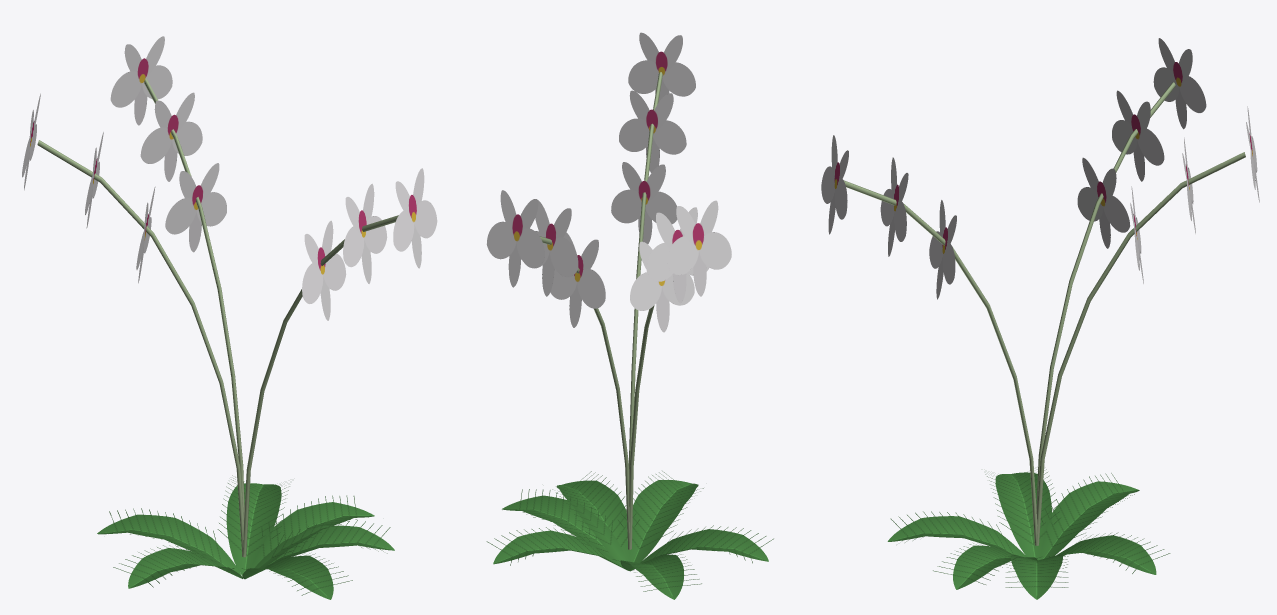
The model's file is orchidaceae-branca.glb.
3 renders of one model, left to right at view 1: azimuth 30°, elevation 25°; view 2: azimuth 150°, elevation 25°; view 3: azimuth 270°, elevation 25°, orthographic. The views are drawn at different scales.
Parts seen in each view (by area): view 1: flores, folhas, haste; view 2: flores, folhas, haste; view 3: folhas, flores, haste.
Part boxes in pixels (bbox=[...]): flores: bbox=[22, 36, 437, 320]; folhas: bbox=[97, 475, 394, 599]; haste: bbox=[37, 79, 398, 557]; flores: bbox=[486, 32, 731, 332]; folhas: bbox=[486, 471, 773, 599]; haste: bbox=[539, 72, 662, 549]; folhas: bbox=[887, 468, 1170, 599]; flores: bbox=[821, 38, 1259, 299]; haste: bbox=[844, 82, 1245, 545].
Bounding box in the file's own units: 0.4652 × 0.7 × 0.6.
Materials: 3 (2 with a texture image).
